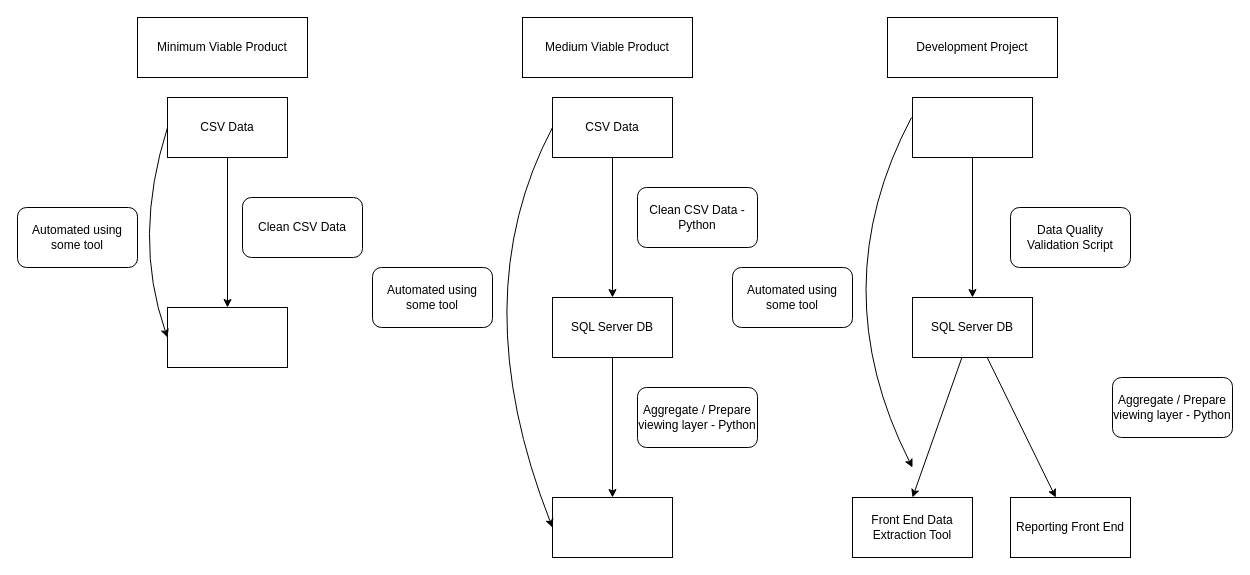
Image size: 1250x575. Some labels were removed from this diagram. Each missing label, with the centre of its shape:
"Create Clean CSV" belongs at (227,337).
"Create Report" belongs at (612,527).
"Front End Data Entry UI" belongs at (972,127).
